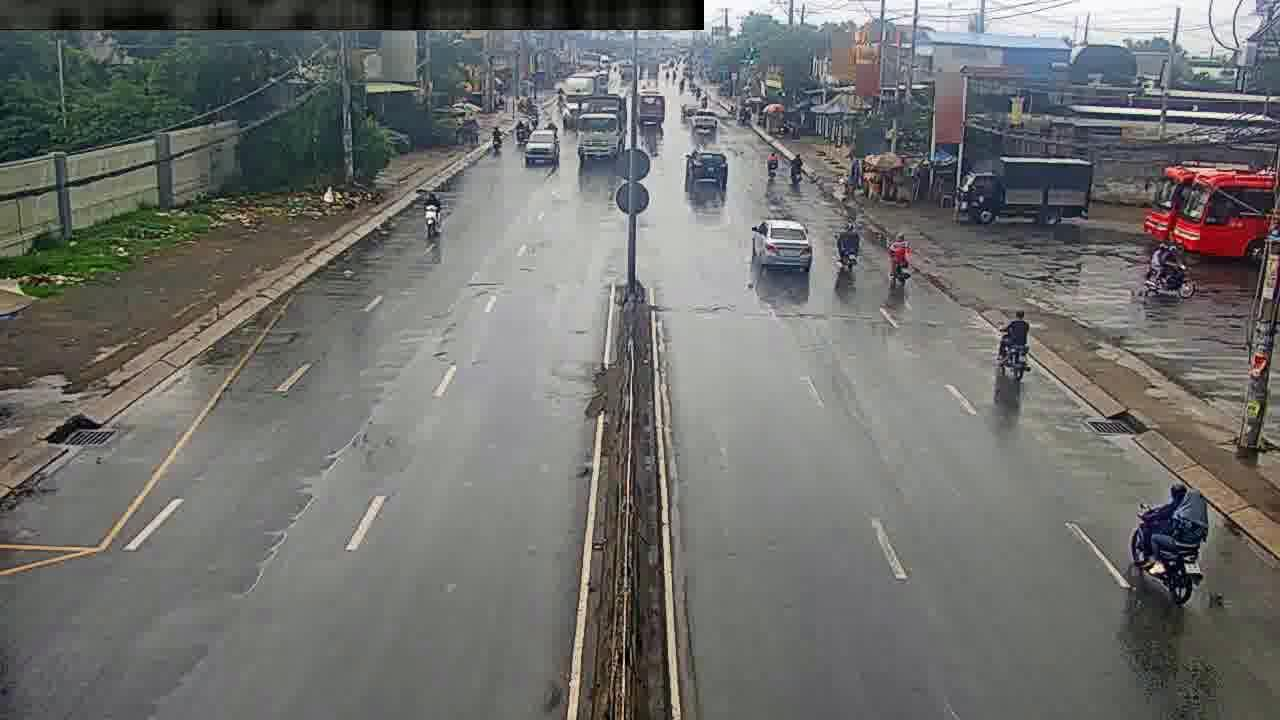8: (572, 92, 626, 156)
container: (751, 219, 811, 271), (687, 148, 728, 196), (521, 128, 561, 163)
motorbike: (1132, 476, 1203, 600), (999, 302, 1033, 386), (1148, 240, 1196, 295), (887, 232, 914, 285), (836, 223, 864, 274), (423, 186, 444, 240), (788, 150, 805, 185), (489, 122, 502, 153), (767, 149, 779, 174)
